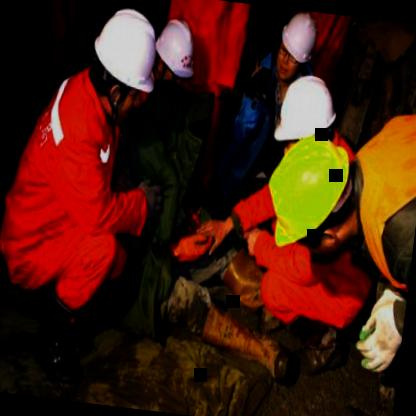helmet: (247, 113, 368, 276), (83, 0, 169, 124), (262, 65, 344, 168), (147, 13, 204, 91), (270, 10, 322, 84)
